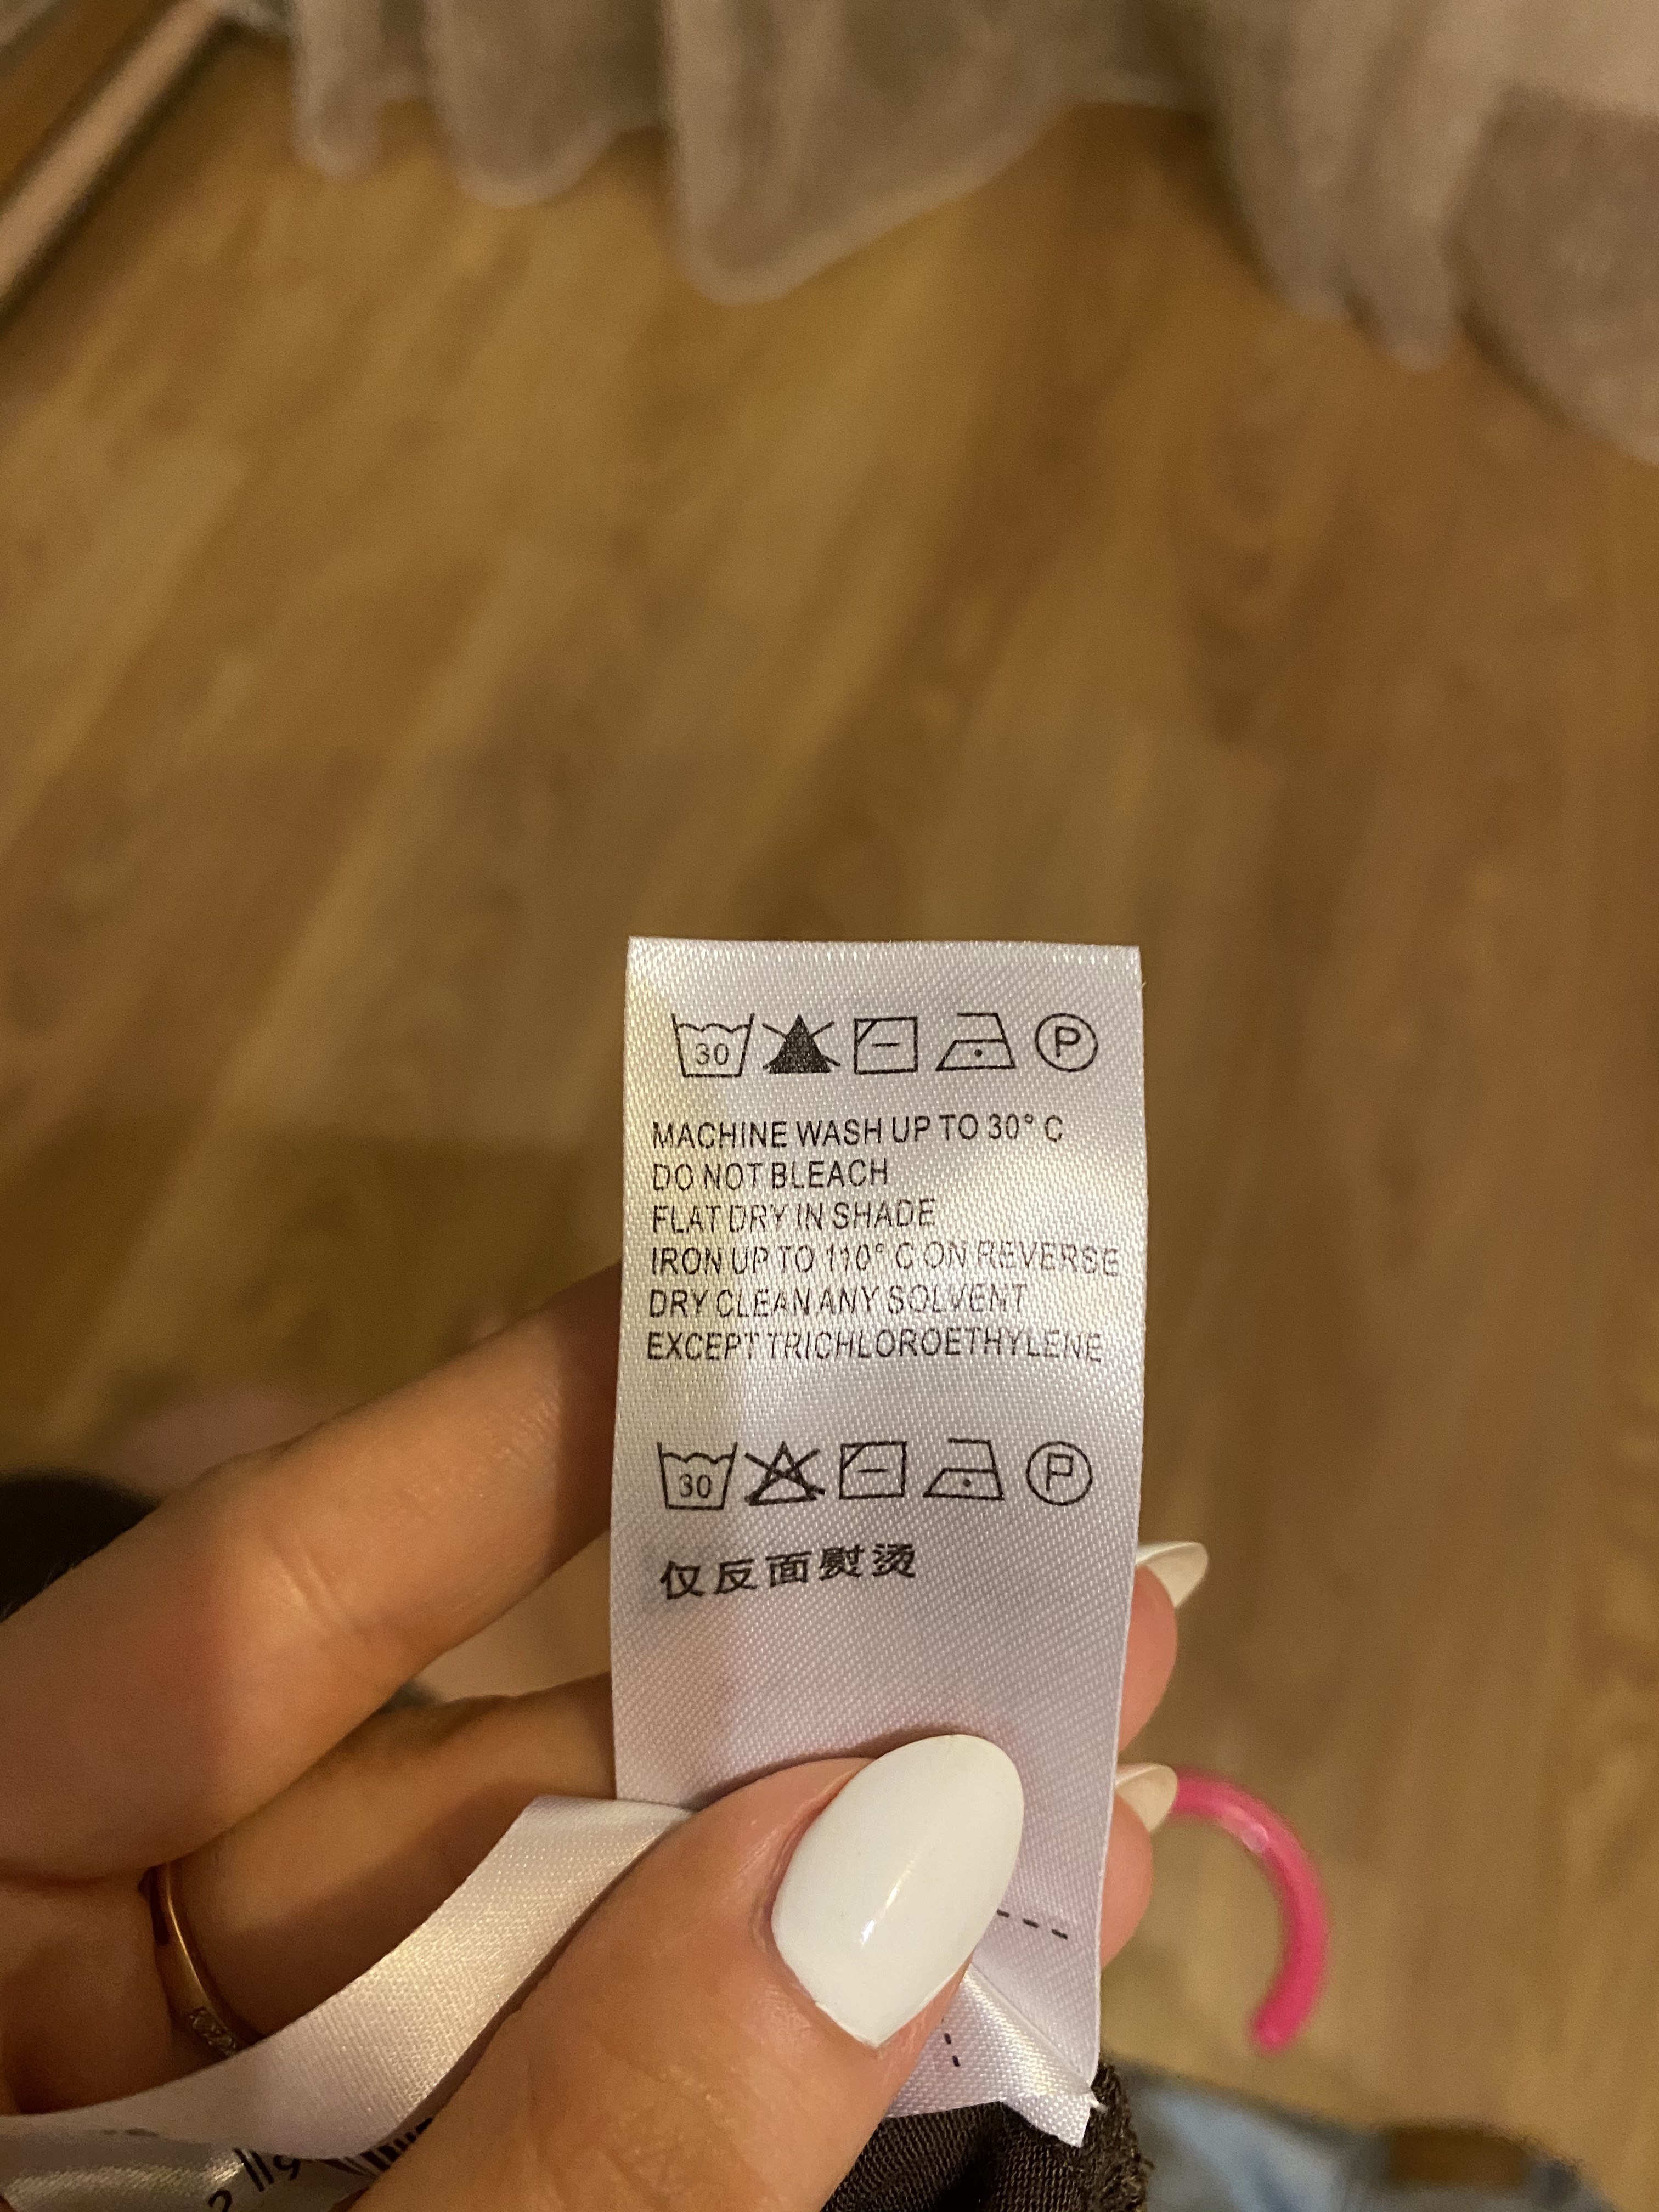do_not_bleach: (741, 1433, 830, 1517), (758, 1008, 840, 1080)
dry_clean_tetrachloroethylene_pce_only: (1023, 1435, 1098, 1517), (1032, 1010, 1100, 1073)
dry_flat_in_the_shade: (833, 1433, 915, 1514), (847, 1007, 925, 1083)
ironing_at_low_temp: (918, 1432, 1011, 1517), (934, 1007, 1019, 1078)
wash_at_or_below_30: (653, 1433, 742, 1521), (666, 1010, 758, 1083)
